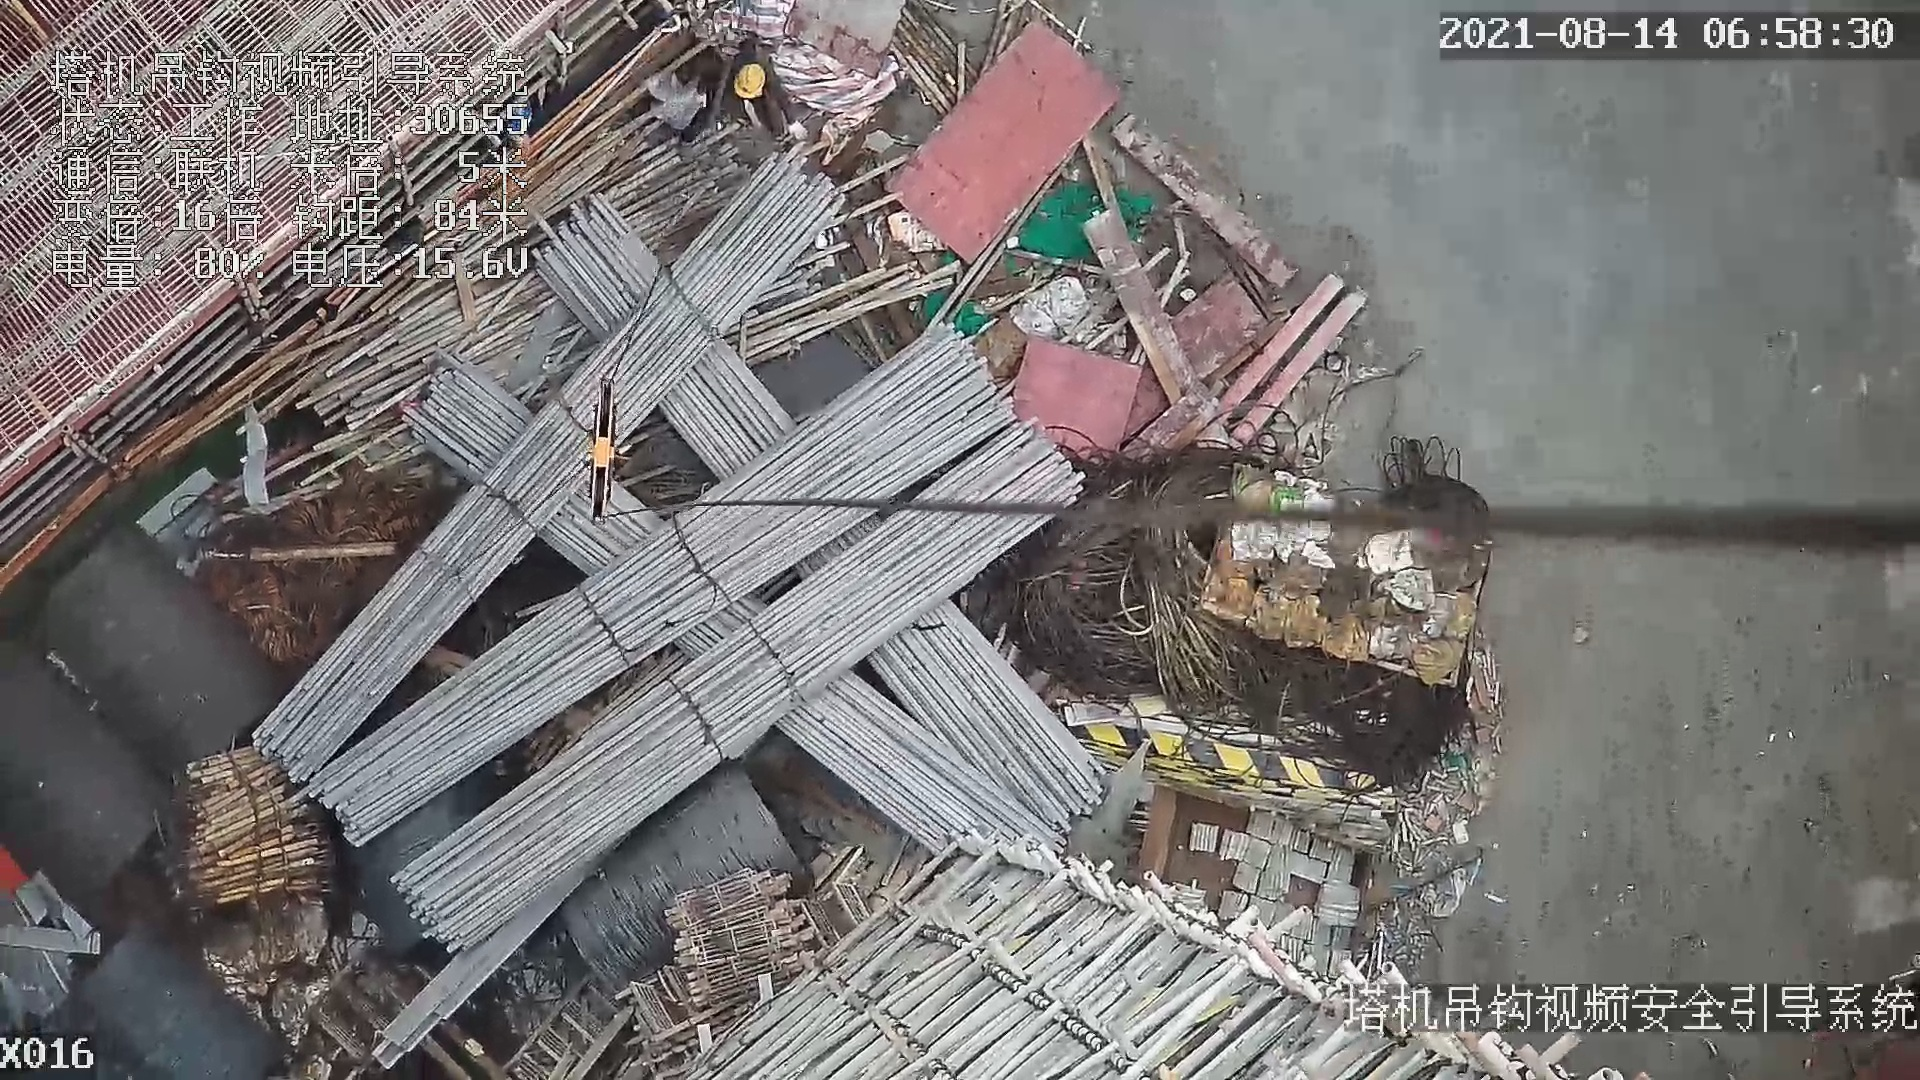helmet: (732, 64, 764, 99)
hook: (581, 380, 622, 522)
person: (720, 49, 814, 160)
rebar: (252, 157, 851, 780), (304, 326, 1015, 846), (392, 424, 1083, 954), (771, 672, 1069, 860), (863, 603, 1106, 831)
scaffold: (182, 743, 328, 906)
